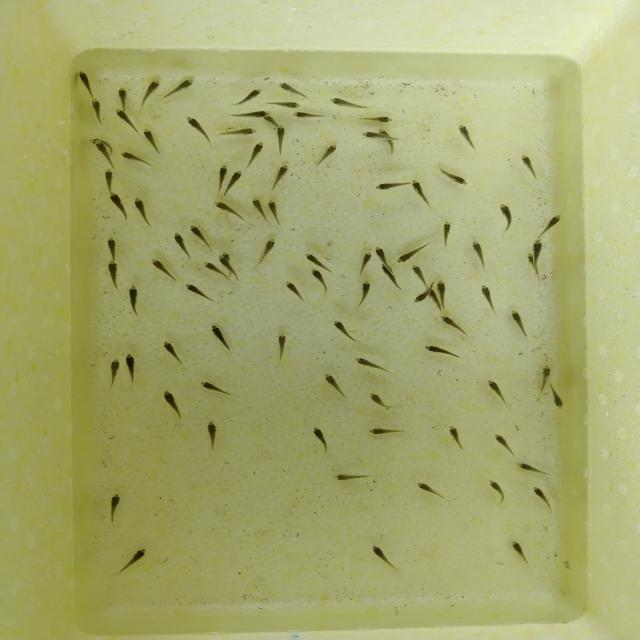fingerling: (113, 547, 148, 577), (394, 240, 431, 264), (161, 390, 187, 422), (164, 77, 197, 101), (227, 87, 266, 107), (207, 323, 232, 354), (106, 192, 131, 222), (118, 149, 152, 171), (149, 258, 178, 283), (184, 283, 216, 305), (132, 196, 154, 227), (159, 340, 185, 366), (535, 213, 562, 238), (416, 481, 448, 502), (379, 263, 402, 292), (256, 237, 277, 268), (509, 309, 530, 340), (329, 470, 375, 484), (212, 200, 244, 220), (184, 115, 209, 140), (329, 319, 355, 343), (517, 461, 556, 477), (314, 144, 338, 170), (486, 377, 509, 404), (168, 232, 190, 260), (112, 108, 138, 131), (270, 163, 291, 191), (439, 314, 465, 336), (353, 357, 386, 374), (493, 433, 516, 457), (532, 486, 553, 512), (329, 96, 368, 110), (487, 479, 508, 505), (518, 153, 538, 180), (438, 170, 468, 188), (198, 380, 228, 398), (310, 425, 330, 452), (188, 224, 212, 246), (369, 545, 394, 566), (226, 170, 246, 196), (424, 343, 458, 358), (94, 140, 112, 168), (310, 267, 328, 295), (142, 78, 162, 103), (205, 419, 220, 452), (274, 332, 289, 365), (77, 70, 94, 99), (216, 126, 257, 138), (322, 372, 343, 395), (112, 84, 133, 107), (510, 540, 530, 564), (125, 283, 141, 313), (247, 140, 264, 168), (108, 492, 125, 520), (470, 239, 487, 267), (410, 179, 429, 204), (457, 123, 475, 149), (87, 98, 106, 122), (367, 392, 393, 409), (536, 363, 556, 385), (548, 388, 568, 410), (445, 425, 464, 448), (107, 357, 122, 386), (276, 80, 307, 94), (124, 354, 138, 384), (380, 128, 395, 156), (106, 260, 120, 290), (291, 110, 326, 122), (498, 203, 514, 229), (142, 126, 158, 152), (441, 221, 454, 253), (282, 280, 304, 298), (357, 114, 396, 124), (270, 100, 301, 112), (367, 428, 408, 437), (358, 250, 372, 276), (481, 286, 496, 310), (532, 237, 544, 267), (373, 181, 405, 192), (410, 264, 427, 284), (250, 197, 264, 221), (275, 125, 286, 155), (358, 278, 372, 301), (231, 110, 270, 118), (302, 251, 322, 266), (106, 237, 119, 260), (373, 245, 390, 262), (409, 292, 427, 307), (102, 168, 116, 187), (215, 163, 229, 182), (267, 198, 279, 220), (435, 279, 450, 295), (201, 259, 216, 274), (359, 130, 380, 140), (217, 255, 229, 266), (525, 252, 533, 266)
